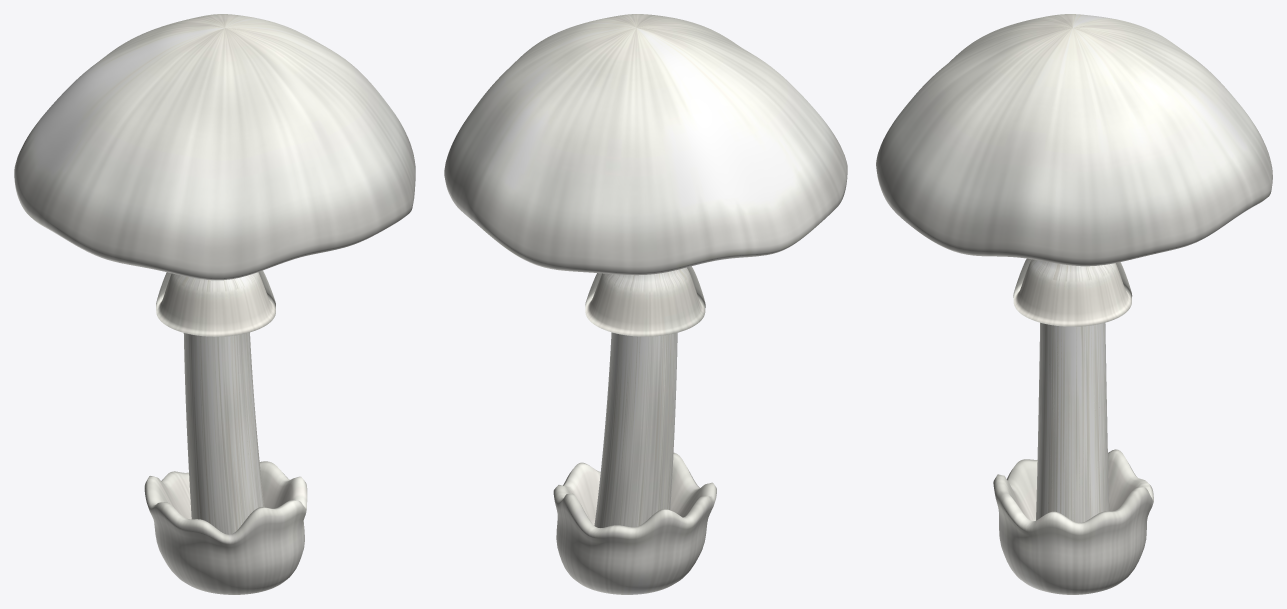
Rendered from amanita-virosa-drawn.glb.
The picture shows the model from 3 angles, left to right: view 1: azimuth 30°, elevation 25°; view 2: azimuth 150°, elevation 25°; view 3: azimuth 270°, elevation 25°; orthographic projection.
Bounding box in the file's own units: 0.6939 × 1.05 × 0.693.
1 material, 1 textured.
